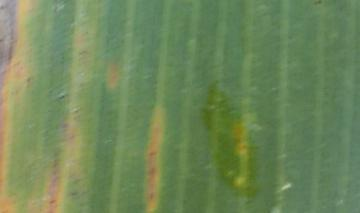tarspot: (56, 93, 66, 101), (312, 1, 323, 7)
